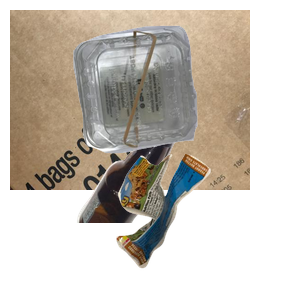cardboard: (10, 10, 250, 190)
glass: (74, 120, 244, 300)
plastic: (71, 23, 300, 169)
trash: (114, 151, 300, 300)
